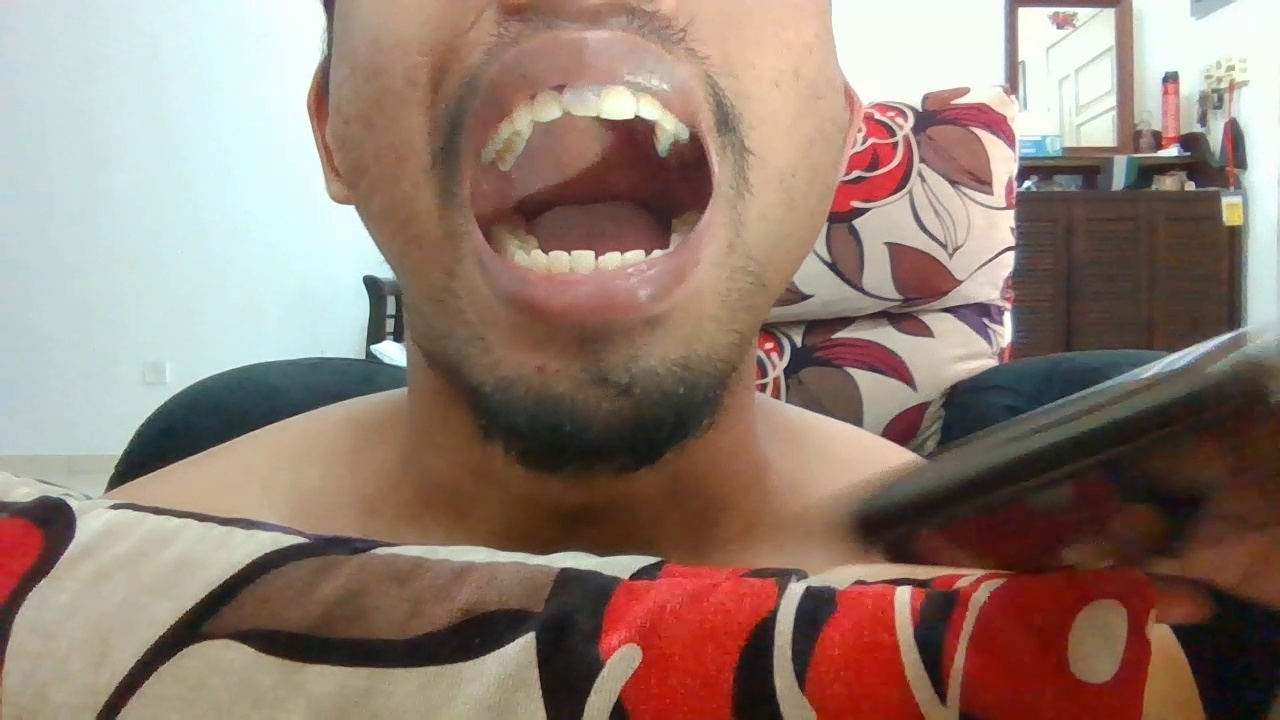1st Molar: (478, 148, 518, 167)
1st Premolar: (499, 119, 531, 139), (657, 125, 690, 141), (512, 248, 528, 266)
2nd Premolar: (489, 134, 525, 152)
Canine: (513, 100, 531, 130), (528, 248, 548, 274), (659, 106, 678, 130)
Central Incisor: (602, 84, 637, 121), (564, 82, 602, 116), (570, 249, 596, 273), (598, 248, 623, 271)
Lateral Incisor: (530, 89, 564, 122), (638, 90, 663, 121), (548, 250, 570, 276), (623, 249, 646, 268)
